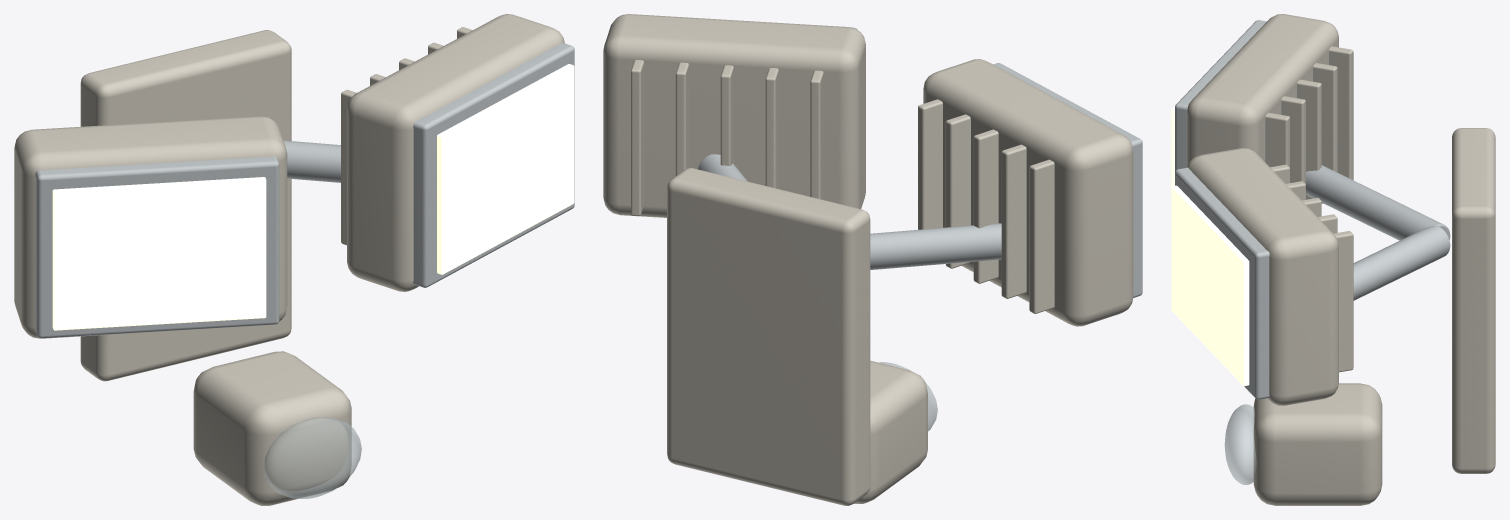
File: motion-security-floodlight.glb
3 renders of one model, left to right at view 1: azimuth 30°, elevation 25°; view 2: azimuth 150°, elevation 25°; view 3: azimuth 270°, elevation 25°, orthographic. The views are drawn at different scales.
Parts seen in each view (by area): view 1: Security flood | protected luminous lens, Wall light | mounting backplate, Security flood | cast housing.001, Security light | sensor housing, Security flood | protected luminous lens.001, Security flood | cast housing, Security flood | reflector bezel, Security flood | reflector bezel.001, Security light | faceted sensor lens, Security light | adjustable arm.001, Security flood | rear heat-sink rib.005; view 2: Wall light | mounting backplate, Security flood | cast housing.001, Security flood | cast housing, Security light | sensor housing, Security light | adjustable arm, Security flood | rear heat-sink rib, Security flood | rear heat-sink rib.001, Security flood | rear heat-sink rib.004, Security flood | rear heat-sink rib.002, Security flood | rear heat-sink rib.003, Security flood | reflector bezel, Security flood | rear heat-sink rib.009 (+5 smaller); view 3: Security flood | cast housing.001, Wall light | mounting backplate, Security light | sensor housing, Security flood | cast housing, Security flood | protected luminous lens.001, Security flood | reflector bezel.001, Security light | adjustable arm, Security light | adjustable arm.001, Security flood | rear heat-sink rib, Security flood | rear heat-sink rib.009, Security light | faceted sensor lens, Security flood | rear heat-sink rib.001 (+4 smaller).
Boxes of the visible parts, x1,y1,x2,y2 form: Security flood | protected luminous lens: (52,177,266,330); Wall light | mounting backplate: (80,30,291,381); Security flood | cast housing.001: (347,14,564,291); Security light | sensor housing: (193,351,351,505); Security flood | protected luminous lens.001: (437,64,574,274); Security flood | cast housing: (14,116,287,338); Security flood | reflector bezel: (35,156,279,338); Security flood | reflector bezel.001: (413,42,574,287); Security light | faceted sensor lens: (264,417,361,498); Security light | adjustable arm.001: (283,140,340,182); Security flood | rear heat-sink rib.005: (341,89,356,245); Wall light | mounting backplate: (667,168,870,505); Security flood | cast housing.001: (603,14,865,217); Security flood | cast housing: (923,59,1133,326); Security light | sensor housing: (854,360,927,503); Security light | adjustable arm: (870,223,1001,269); Security flood | rear heat-sink rib: (1029,159,1054,313); Security flood | rear heat-sink rib.001: (1001,144,1026,298); Security flood | rear heat-sink rib.004: (918,99,942,229); Security flood | rear heat-sink rib.002: (973,129,998,283); Security flood | rear heat-sink rib.003: (945,114,970,268); Security flood | reflector bezel: (993,63,1142,297); Security flood | rear heat-sink rib.009: (631,60,644,216); Security flood | cast housing.001: (1187,148,1338,405); Wall light | mounting backplate: (1452,128,1495,473); Security light | sensor housing: (1253,383,1382,505); Security flood | cast housing: (1186,14,1338,167); Security flood | protected luminous lens.001: (1171,185,1249,386); Security flood | reflector bezel.001: (1175,167,1269,399); Security light | adjustable arm: (1306,165,1450,240); Security light | adjustable arm.001: (1353,225,1450,300); Security flood | rear heat-sink rib: (1329,46,1353,180); Security flood | rear heat-sink rib.009: (1334,231,1353,372); Security light | faceted sensor lens: (1224,404,1256,484); Security flood | rear heat-sink rib.001: (1313,63,1337,203).
Bounding box in the file's own units: 0.3958 × 0.2835 × 0.2292.
Materials: 4 (4 with a texture image).
